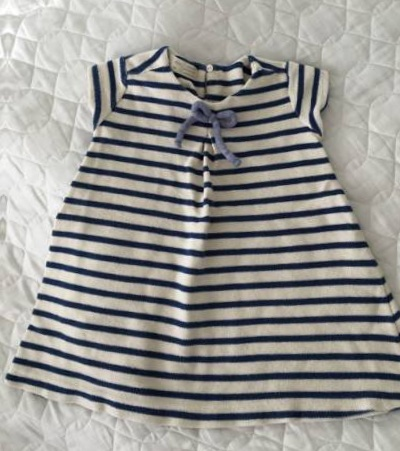Dress: (6, 23, 400, 451)
